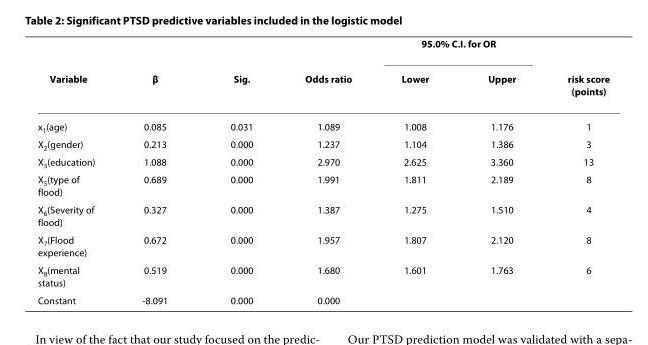table: (36, 36, 609, 305)
table column: (278, 36, 376, 305), (457, 36, 541, 305), (36, 36, 117, 305), (117, 36, 198, 305), (376, 36, 457, 305), (198, 36, 278, 305), (541, 36, 609, 305)
table column header: (36, 36, 609, 108)
table row: (36, 60, 609, 108), (36, 170, 609, 200), (36, 200, 609, 230), (36, 230, 609, 260), (36, 260, 609, 290), (36, 108, 609, 135), (36, 36, 609, 60), (36, 135, 609, 153), (36, 153, 609, 170), (36, 290, 609, 305)
table spanning cell: (278, 36, 376, 108), (36, 36, 117, 108), (117, 36, 198, 108), (198, 36, 278, 108), (541, 36, 609, 108), (376, 36, 541, 60)
